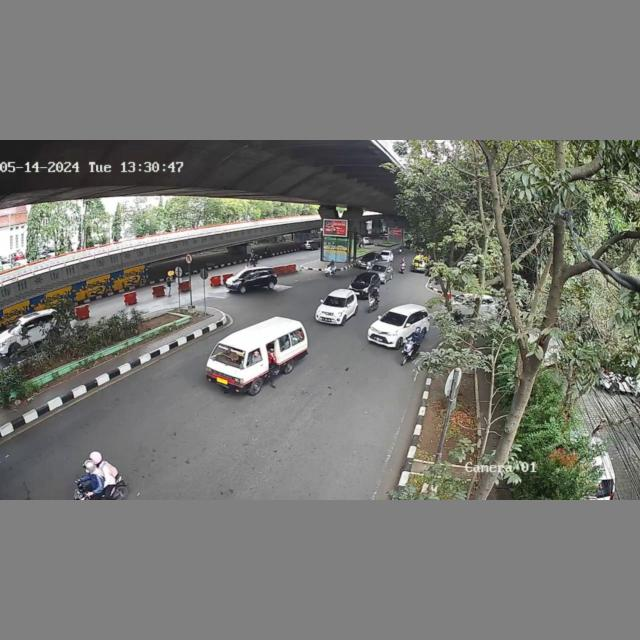windshield: (211, 344, 249, 368), (322, 293, 348, 309), (380, 310, 407, 325)
